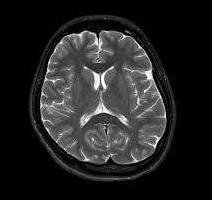Normal_Brain: (8, 1, 212, 200)
